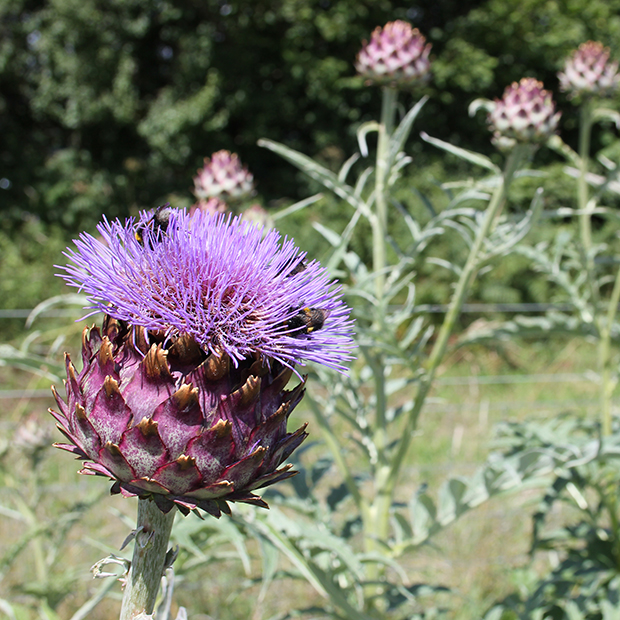thistle: (41, 198, 336, 531)
